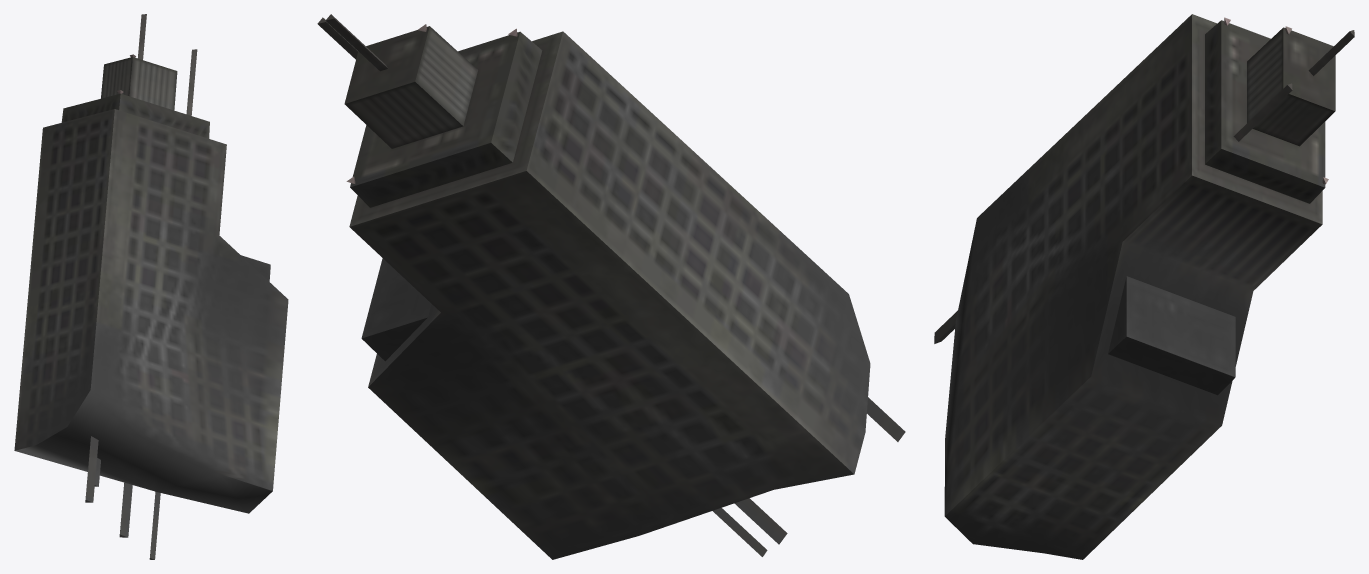
The model's file is skyBuildingAAB_pos_grp (10).fbx.
The picture shows the model from 3 angles, left to right: view 1: azimuth 30°, elevation 25°; view 2: azimuth 150°, elevation 25°; view 3: azimuth 270°, elevation 25°; orthographic projection. The views are drawn at different scales.
Parts seen in each view (by area): view 1: skyBuildingAAB_geo; view 2: skyBuildingAAB_geo; view 3: skyBuildingAAB_geo.
Part boxes in pixels (box(x1,y1,x2,y2)): skyBuildingAAB_geo: box(14, 14, 288, 559); skyBuildingAAB_geo: box(317, 14, 905, 559); skyBuildingAAB_geo: box(934, 14, 1354, 559).
Size of the model in its own units: 6.89 by 9.71 by 6.55.
Materials: 1 (1 with a texture image).
